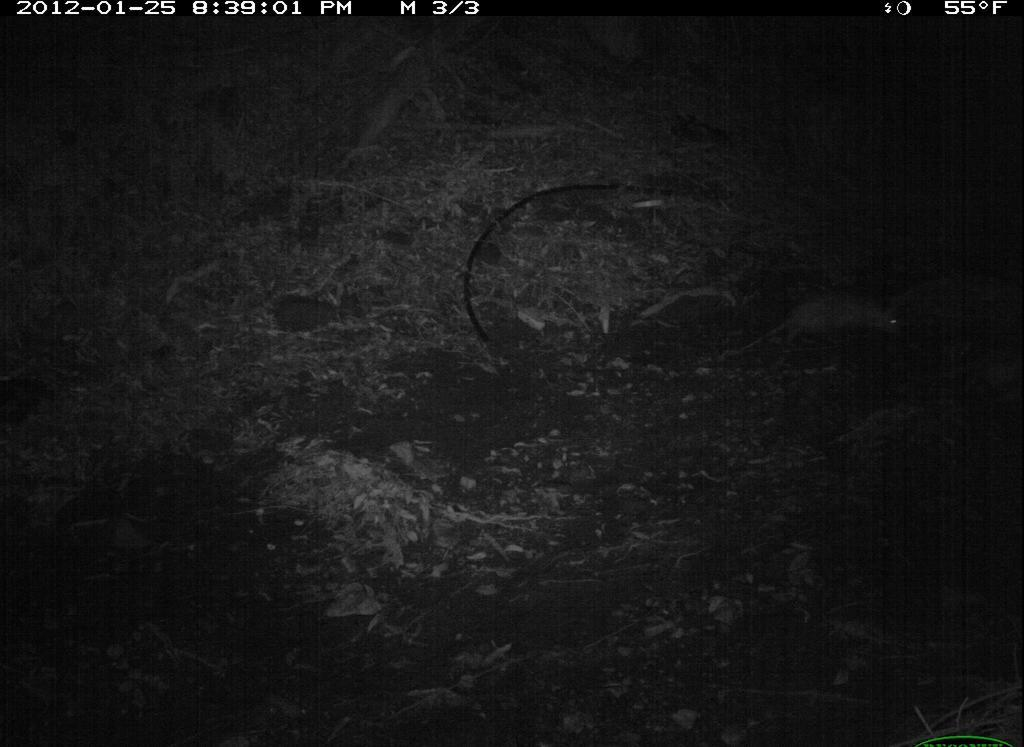opossum: (708, 287, 923, 367)
